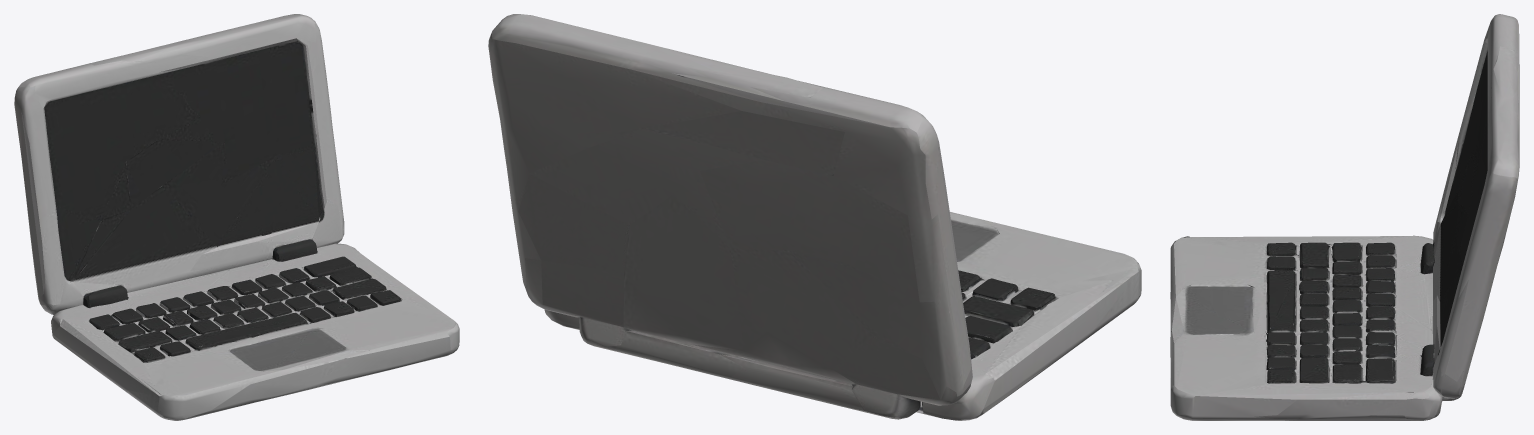
Rendered from laptop.glb.
3 views of the same model, side by side, from view 1: azimuth 30°, elevation 25°; view 2: azimuth 150°, elevation 25°; view 3: azimuth 270°, elevation 25° (orthographic). The views are drawn at different scales.
Visible parts, largest first — view 1: mesh_node; view 2: mesh_node; view 3: mesh_node.
Part boxes in pixels (box(x1,y1,x2,y2)): mesh_node: box(14, 14, 459, 420); mesh_node: box(488, 14, 1141, 420); mesh_node: box(1170, 14, 1519, 420).
Size of the model in its own units: 0.1531 by 0.114 by 0.14.
Materials: 1 (1 with a texture image).
